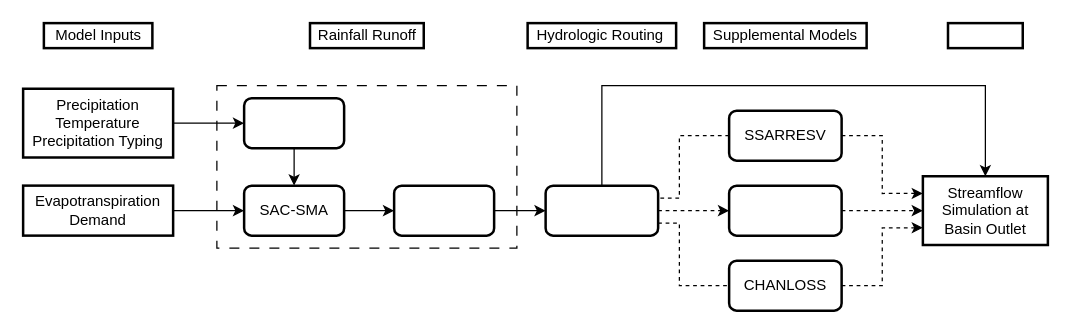
Some shapes in this 1070 by 333 pixel diagram are drawn without their labels. Here are the shapes that lost their labels. From the top down, the centre of each, then its label:
[984,35]: Forecast
[293,122]: SNOW-17
[443,210]: UNIT-HG
[601,210]: Lag-K
[784,210]: CONS_USE
